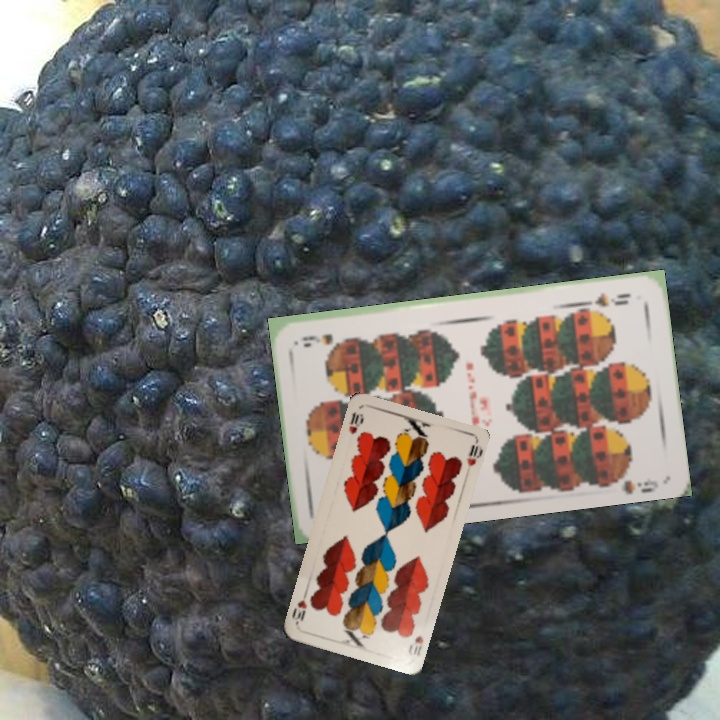H10: (345, 408, 366, 437), (404, 631, 426, 658)
S9: (582, 288, 634, 310)
